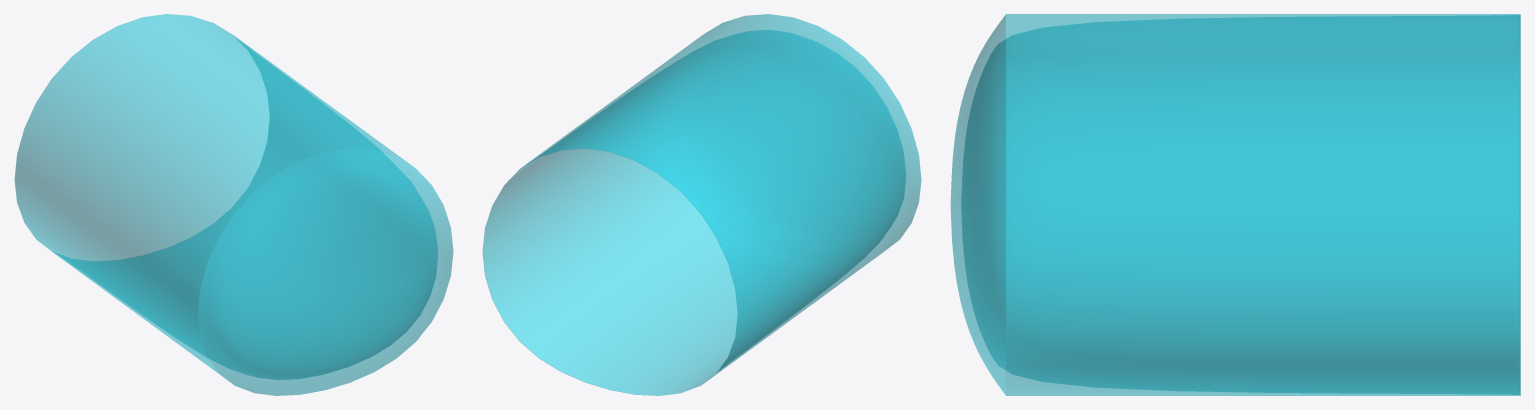
The model's file is cockpit_cycleengine.fbx.
3 renders of one model, left to right at view 1: azimuth 30°, elevation 25°; view 2: azimuth 150°, elevation 25°; view 3: azimuth 270°, elevation 25°, orthographic. The views are drawn at different scales.
Parts seen in each view (by area): view 1: Cylinder; view 2: Cylinder; view 3: Cylinder.
Boxes of the visible parts, bbox=[...] form: Cylinder: bbox=[14, 14, 453, 395]; Cylinder: bbox=[482, 14, 921, 395]; Cylinder: bbox=[950, 14, 1520, 395].
Size of the model in its own units: 124 by 111 by 171.
